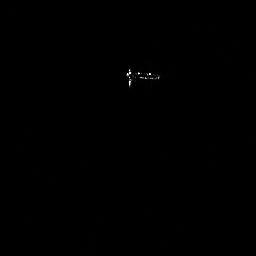ship: (125, 65, 161, 89)
